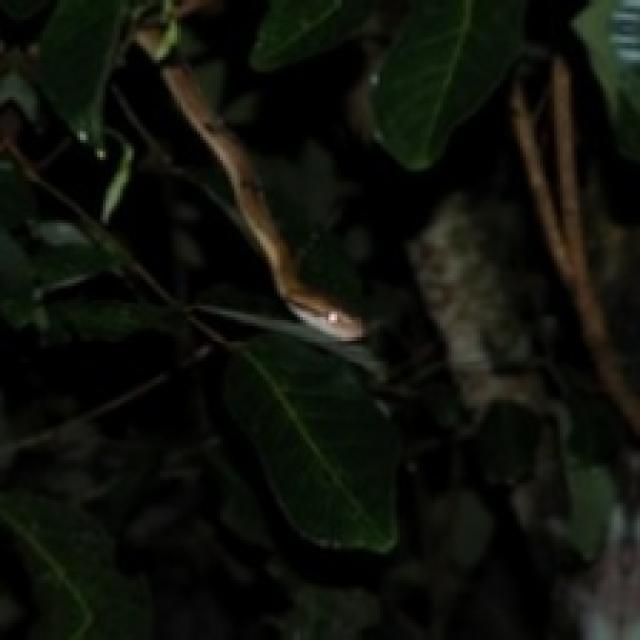dog-toothed cat snake: (163, 63, 363, 337)
